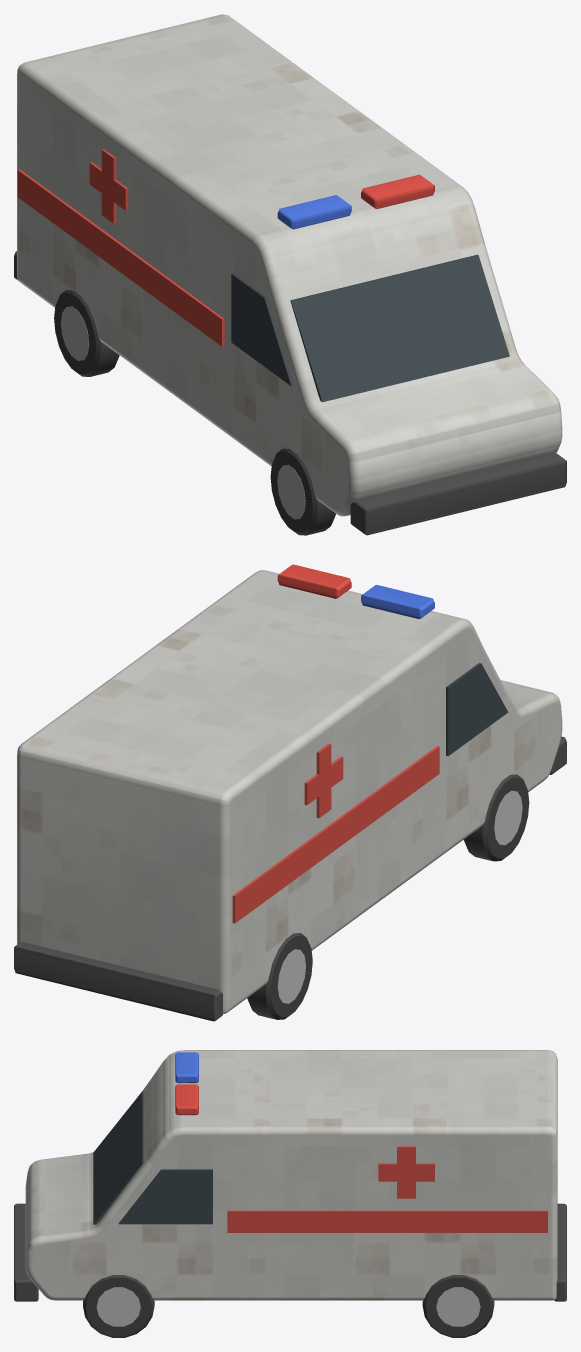
The model's file is ambulance.glb.
3 renders of one model, top to bottom at view 1: azimuth 30°, elevation 25°; view 2: azimuth 150°, elevation 25°; view 3: azimuth 270°, elevation 25°, orthographic. The views are drawn at different scales.
Parts seen in each view (by area): view 1: model; view 2: model; view 3: model.
Boxes of the visible parts, bbox=[...] form: model: bbox=[14, 14, 566, 535]; model: bbox=[14, 564, 566, 1021]; model: bbox=[14, 1050, 566, 1337].
Size of the model in its own units: 2.09 by 2.55 by 5.86.
Materials: 8 (1 with a texture image).
